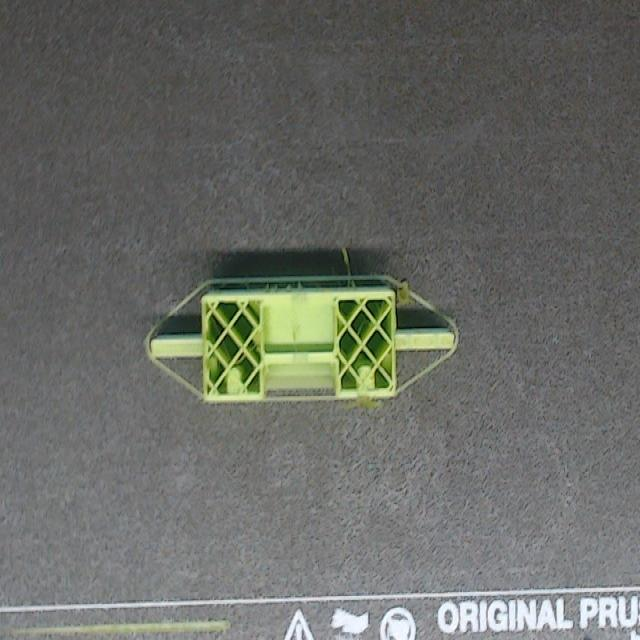mistake: (357, 396, 379, 408), (398, 281, 409, 301), (343, 247, 351, 273), (236, 359, 243, 371), (269, 284, 279, 291), (283, 285, 293, 291), (348, 280, 356, 287), (264, 284, 270, 292), (297, 281, 301, 289)
